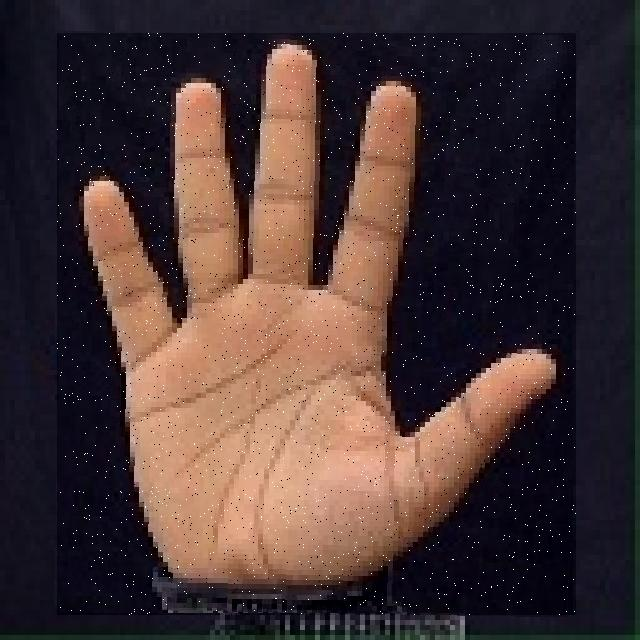Yes: (57, 33, 576, 615)
